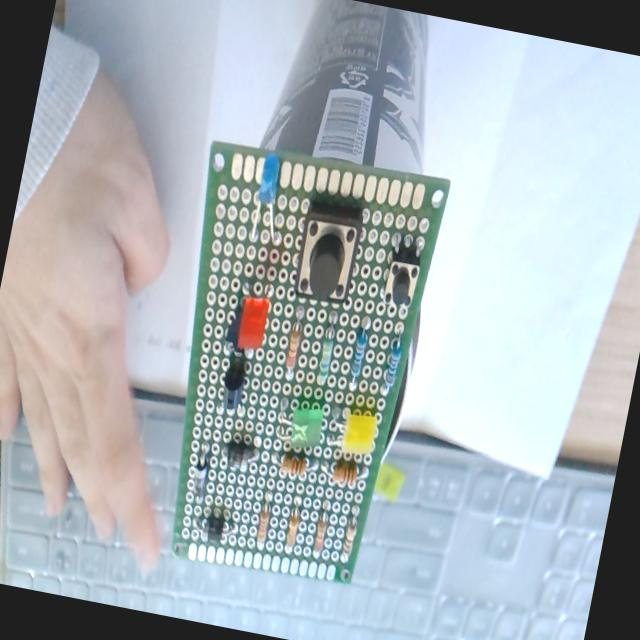diode: (193, 512, 234, 548), (220, 438, 258, 472), (190, 450, 212, 502)
led: (270, 396, 332, 476), (248, 154, 294, 250), (234, 294, 273, 356), (341, 409, 379, 458)
resistor: (316, 311, 342, 387), (346, 321, 371, 392), (282, 308, 306, 378), (382, 336, 405, 394), (284, 496, 305, 550), (340, 507, 360, 561), (254, 494, 274, 546), (278, 451, 310, 481), (332, 458, 359, 489), (312, 516, 328, 554)
switch: (289, 198, 366, 307), (380, 236, 426, 314)
transistor: (222, 289, 255, 356), (218, 356, 250, 414)
